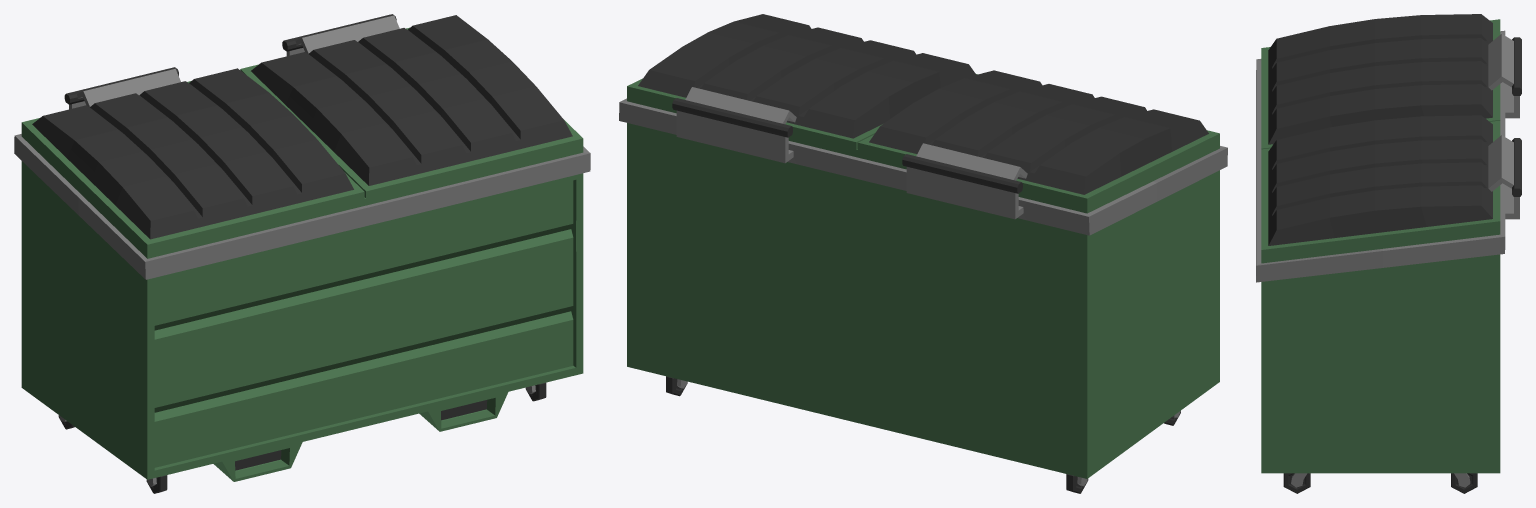
Rendered from Ext_Bin02.fbx.
The picture shows the model from 3 angles, left to right: view 1: azimuth 30°, elevation 25°; view 2: azimuth 150°, elevation 25°; view 3: azimuth 270°, elevation 25°; orthographic projection. The views are drawn at different scales.
Parts seen in each view (by area): view 1: Ext_Bin02, Ext_BinCover01, Ext_BinCover02; view 2: Ext_Bin02, Ext_BinCover01, Ext_BinCover02; view 3: Ext_Bin02, Ext_BinCover02, Ext_BinCover01.
Part boxes in pixels (left/top/right/bottom): Ext_Bin02: left=14, top=14, right=590, bottom=493; Ext_BinCover01: left=21, top=68, right=364, bottom=251; Ext_BinCover02: left=240, top=15, right=583, bottom=198; Ext_Bin02: left=619, top=94, right=1227, bottom=493; Ext_BinCover01: left=857, top=70, right=1219, bottom=205; Ext_BinCover02: left=627, top=14, right=977, bottom=149; Ext_Bin02: left=1256, top=30, right=1521, bottom=493; Ext_BinCover02: left=1261, top=115, right=1513, bottom=256; Ext_BinCover01: left=1261, top=14, right=1513, bottom=149.
Size of what is drawn, in the model's own units: 204 by 111 by 138.
